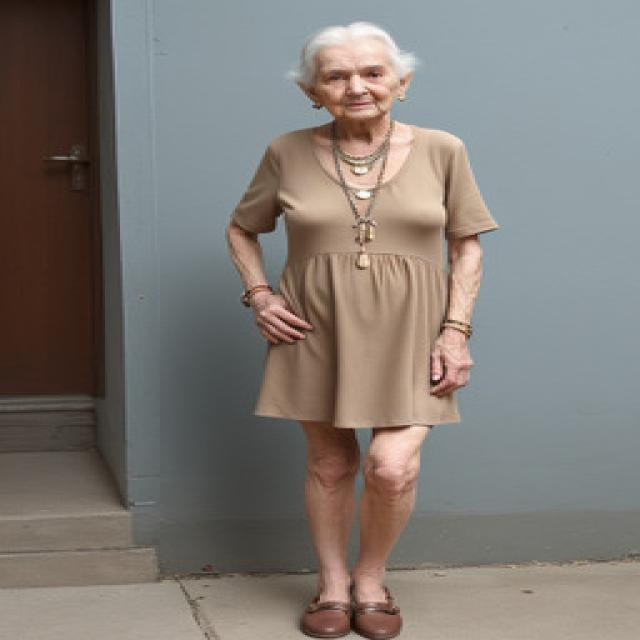Ai human 2: (207, 9, 522, 640)
